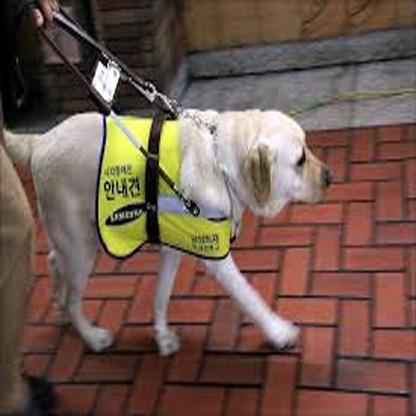guide-dog: (8, 99, 336, 363)
